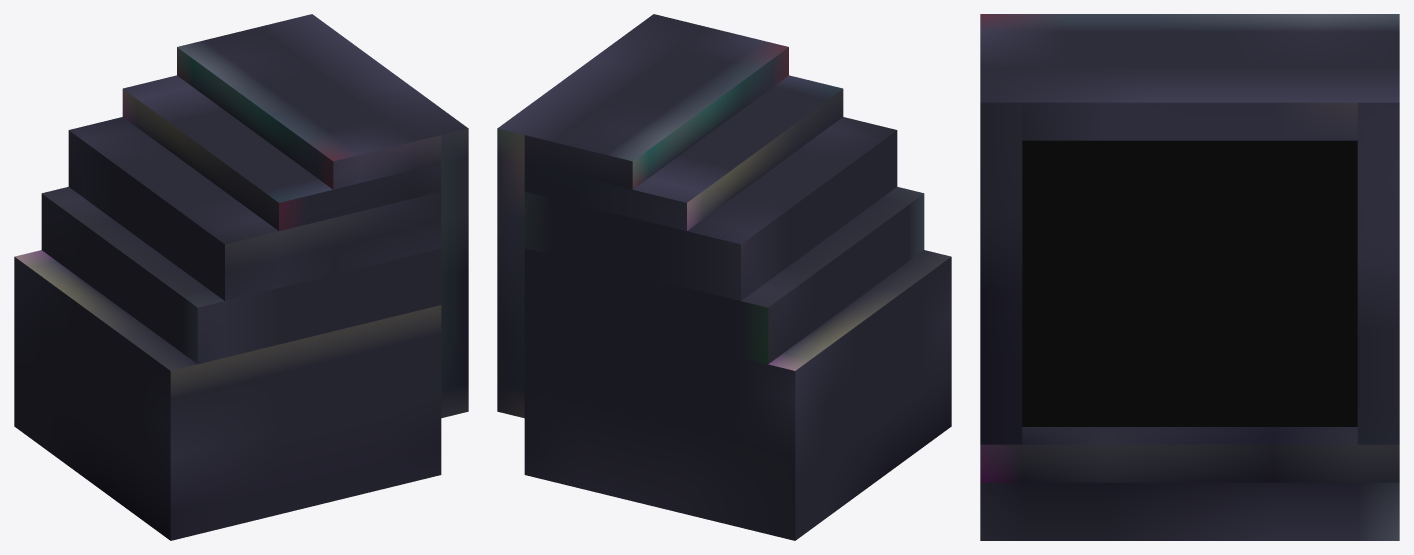
Rendered from Vent_Module_B_00.fbx.
The picture shows the model from 3 angles, left to right: view 1: azimuth 30°, elevation 25°; view 2: azimuth 150°, elevation 25°; view 3: azimuth 270°, elevation 25°; orthographic projection. The views are drawn at different scales.
Parts seen in each view (by area): view 1: Vent_Module_B_00; view 2: Vent_Module_B_00; view 3: Vent_Module_B_00.
Boxes of the visible parts, x1,y1,x2,y2 form: Vent_Module_B_00: [14, 14, 468, 540]; Vent_Module_B_00: [497, 14, 951, 540]; Vent_Module_B_00: [980, 14, 1399, 540].
Bounding box in the file's own units: 55 × 60 × 50.
